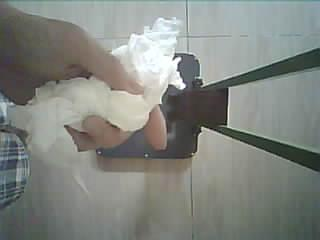paper: (10, 18, 185, 148)
